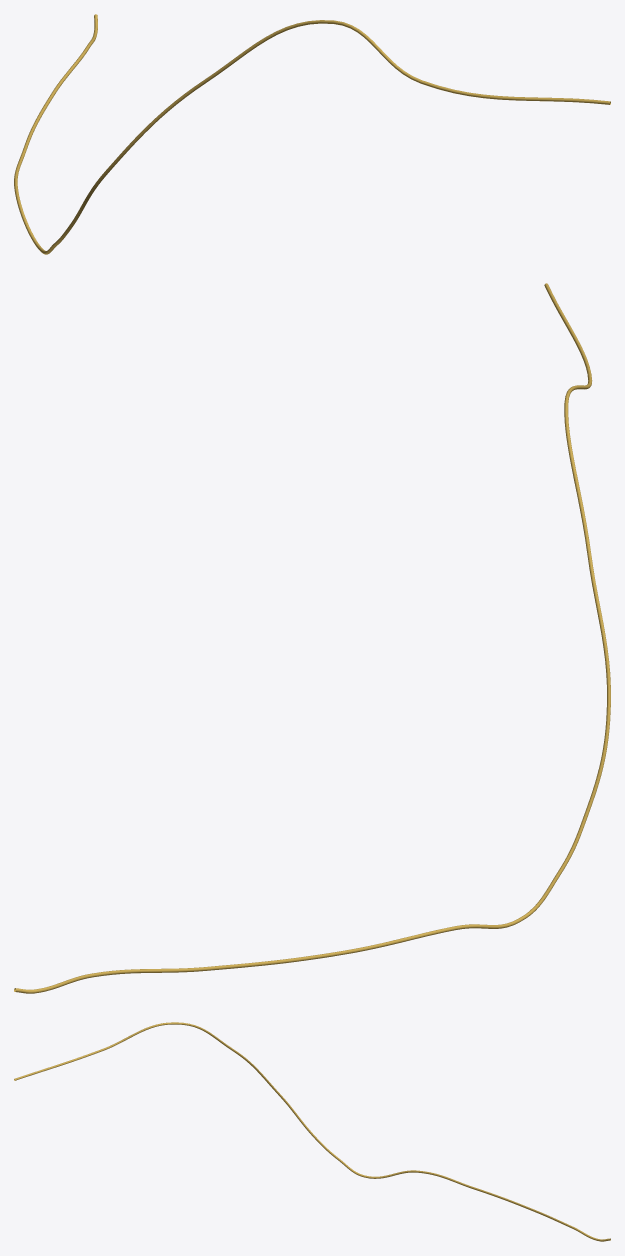
The picture shows the model from 3 angles, top to bottom: view 1: azimuth 30°, elevation 25°; view 2: azimuth 150°, elevation 25°; view 3: azimuth 270°, elevation 25°; orthographic projection. The views are drawn at different scales.
Parts seen in each view (by area): view 1: 右侧髂腹股沟神经; view 2: 右侧髂腹股沟神经; view 3: 右侧髂腹股沟神经.
Part boxes in pixels (x1,y1,x2,y2): 右侧髂腹股沟神经: (14, 14, 610, 254); 右侧髂腹股沟神经: (14, 283, 610, 993); 右侧髂腹股沟神经: (14, 1022, 610, 1241).
Bounding box in the file's own units: 0.135 × 0.1441 × 0.4049.
